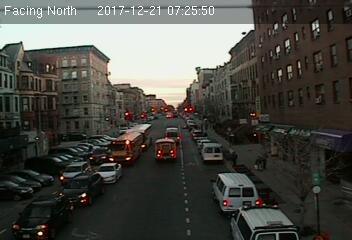car: (11, 195, 77, 239), (59, 173, 104, 206), (61, 161, 91, 180), (95, 162, 121, 181), (89, 147, 110, 162)
police: (230, 204, 302, 240)
truck: (211, 171, 260, 212), (110, 133, 144, 164), (153, 140, 176, 162), (201, 143, 222, 162)
